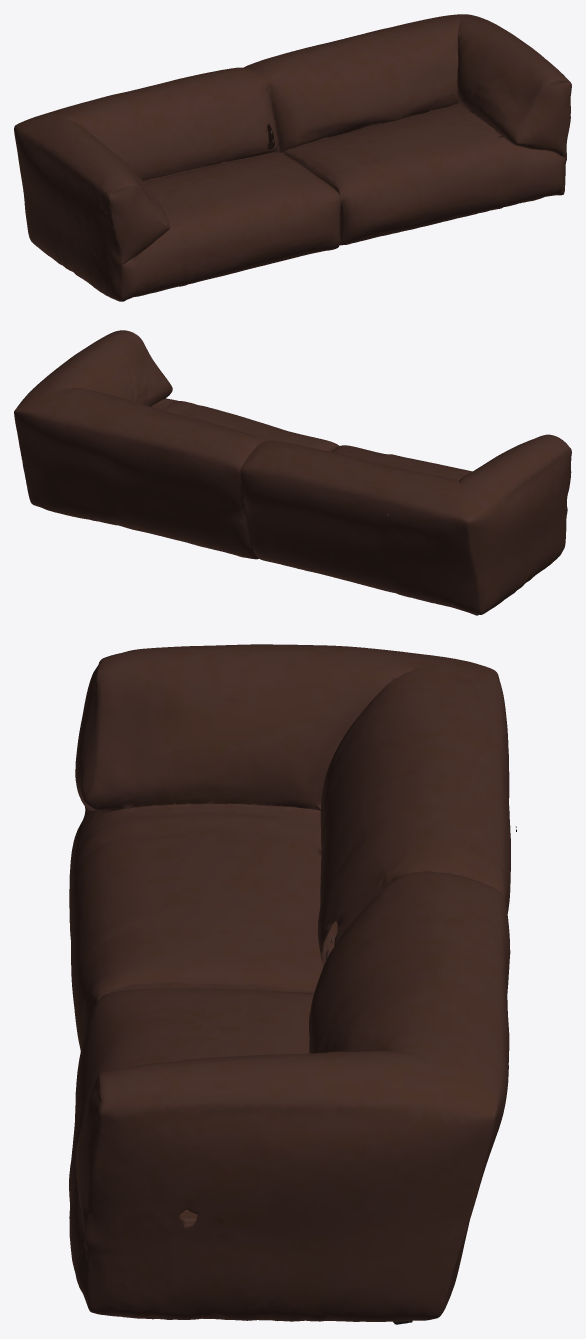
File: item-17.glb
3 renders of one model, top to bottom at view 1: azimuth 30°, elevation 25°; view 2: azimuth 150°, elevation 25°; view 3: azimuth 270°, elevation 25°, orthographic. The views are drawn at different scales.
Parts seen in each view (by area): view 1: geometry_0; view 2: geometry_0; view 3: geometry_0.
Boxes of the visible parts, x1=… form: geometry_0: x1=14, y1=14, x2=571, y2=301; geometry_0: x1=14, y1=330, x2=571, y2=615; geometry_0: x1=69, y1=644, x2=516, y2=1324.
Size of the model in its own units: 1 by 0.2583 by 0.4067.
Materials: 1 (1 with a texture image).
